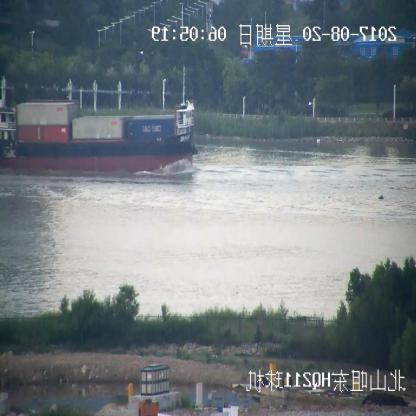Container Ship: (1, 66, 195, 174)
